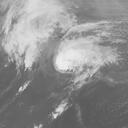cyclone: (52, 38, 98, 76)
